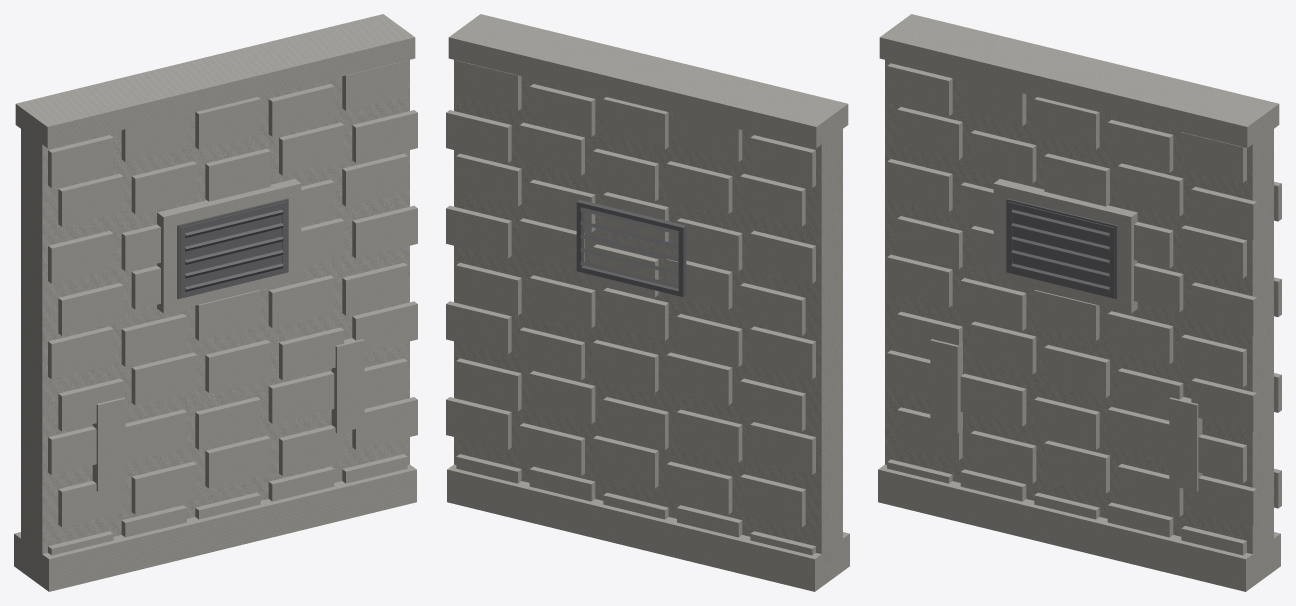
The model's file is distillery-and-bonded-warehouse-warehouse-wall-run-1a141ef6.glb.
The picture shows the model from 3 angles, left to right: view 1: azimuth 30°, elevation 25°; view 2: azimuth 150°, elevation 25°; view 3: azimuth 330°, elevation 25°; orthographic projection.
Parts seen in each view (by area): view 1: warehouse-wall-run-stone, warehouse-wall-run-iron; view 2: warehouse-wall-run-stone, warehouse-wall-run-iron; view 3: warehouse-wall-run-stone, warehouse-wall-run-iron.
Boxes of the visible parts, left/top/right/bottom form: warehouse-wall-run-stone: left=14, top=14, right=417, bottom=591; warehouse-wall-run-iron: left=177, top=198, right=288, bottom=298; warehouse-wall-run-stone: left=446, top=14, right=849, bottom=591; warehouse-wall-run-iron: left=576, top=199, right=686, bottom=296; warehouse-wall-run-stone: left=878, top=14, right=1281, bottom=591; warehouse-wall-run-iron: left=1006, top=198, right=1117, bottom=298.
Size of the model in its own units: 4.05 by 4.82 by 0.7359.
Materials: 2 (1 with a texture image).
